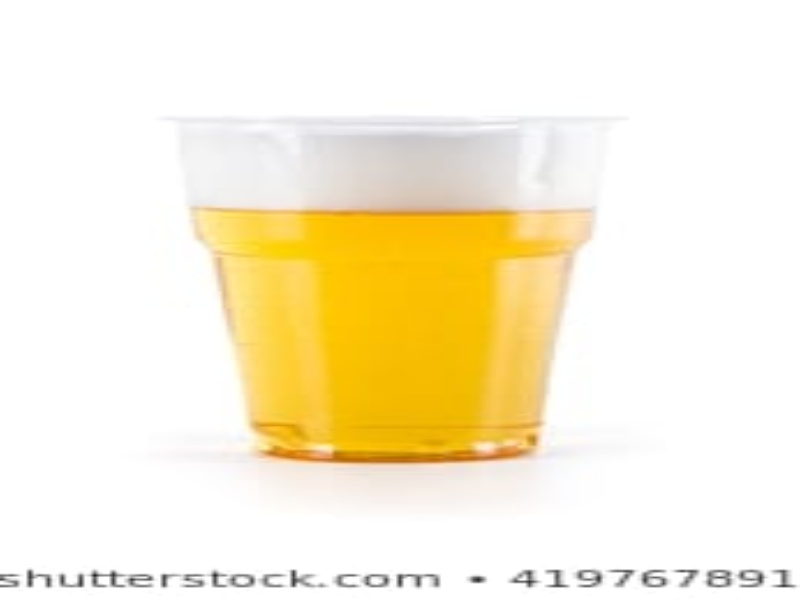plastic-cup: (148, 91, 638, 473)
